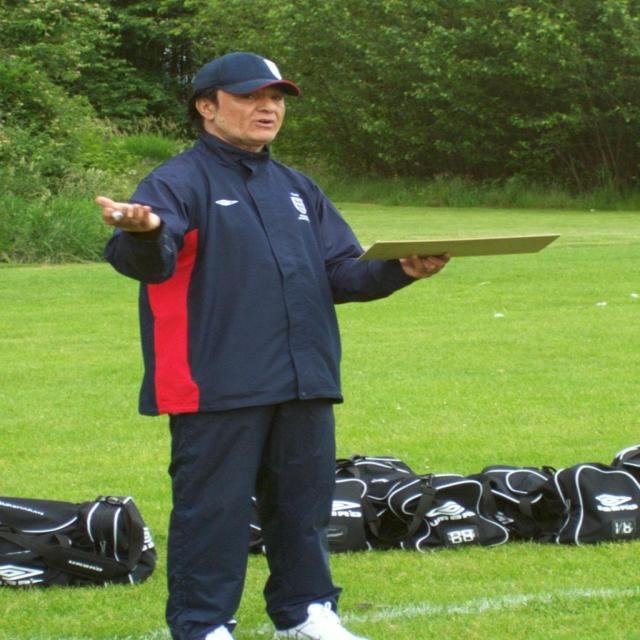Face: (193, 62, 292, 158)
